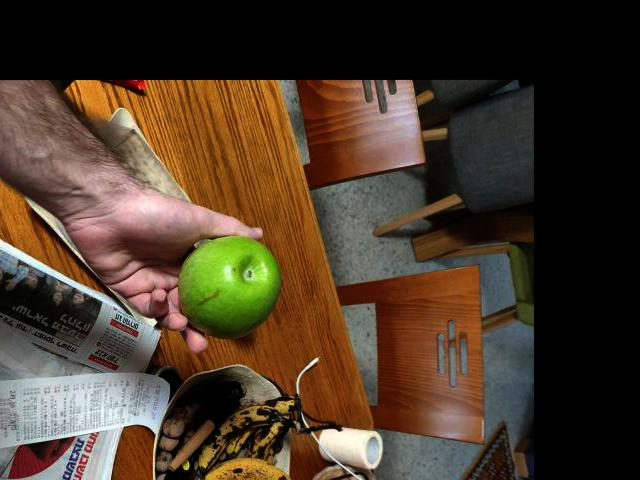apple: (181, 231, 282, 336)
